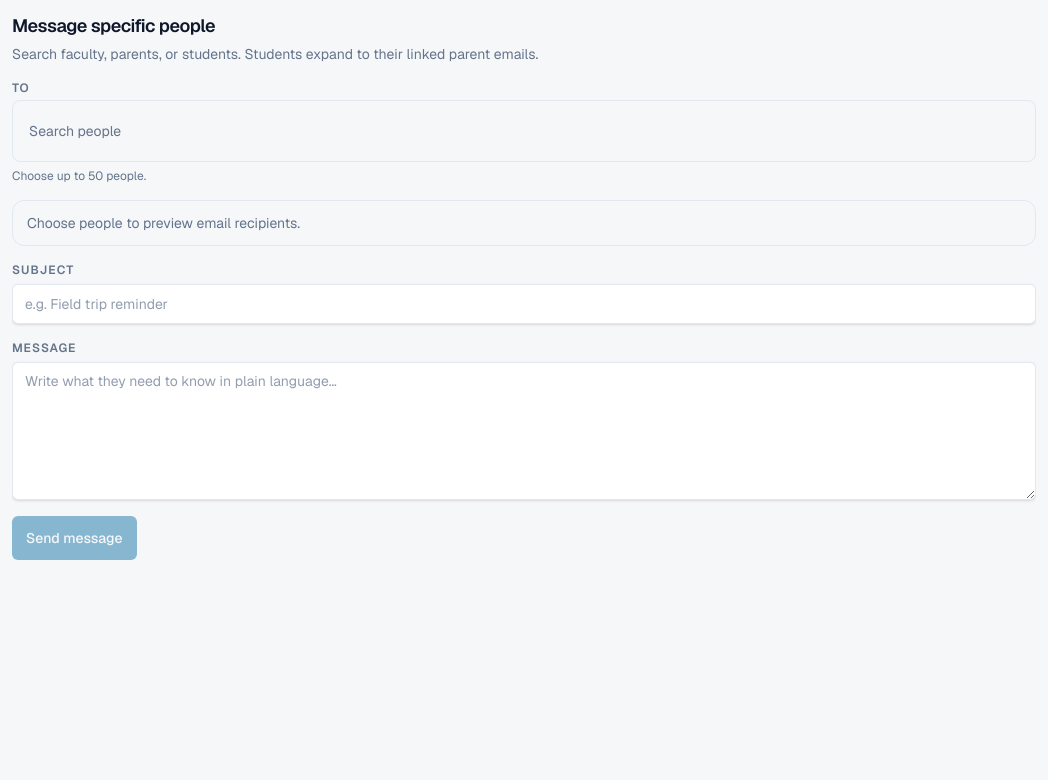
Scenario: PeopleMessageForm › previews selected references and blocks send until server resolution is ready
Type "Av" into the dropdown labelled "To".
click(524, 131); type("Av")  # box 21,109 -> 1027,153
Wait 250 ms
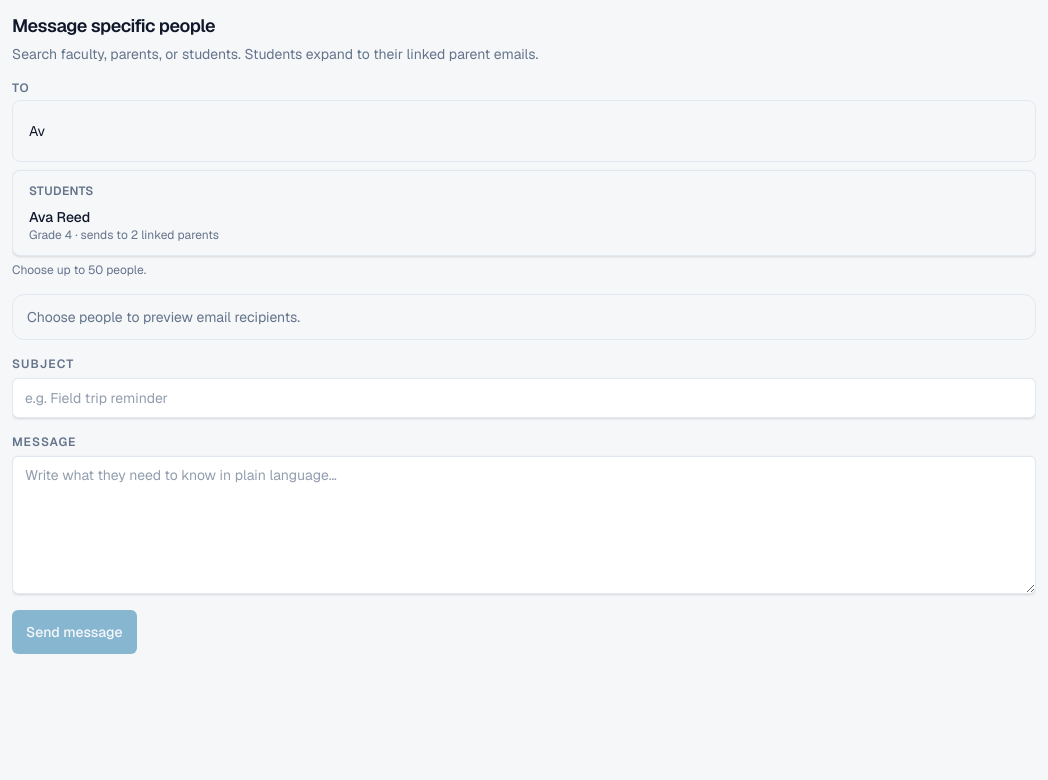
Press Arrowdown Enter
Wait 150 ms
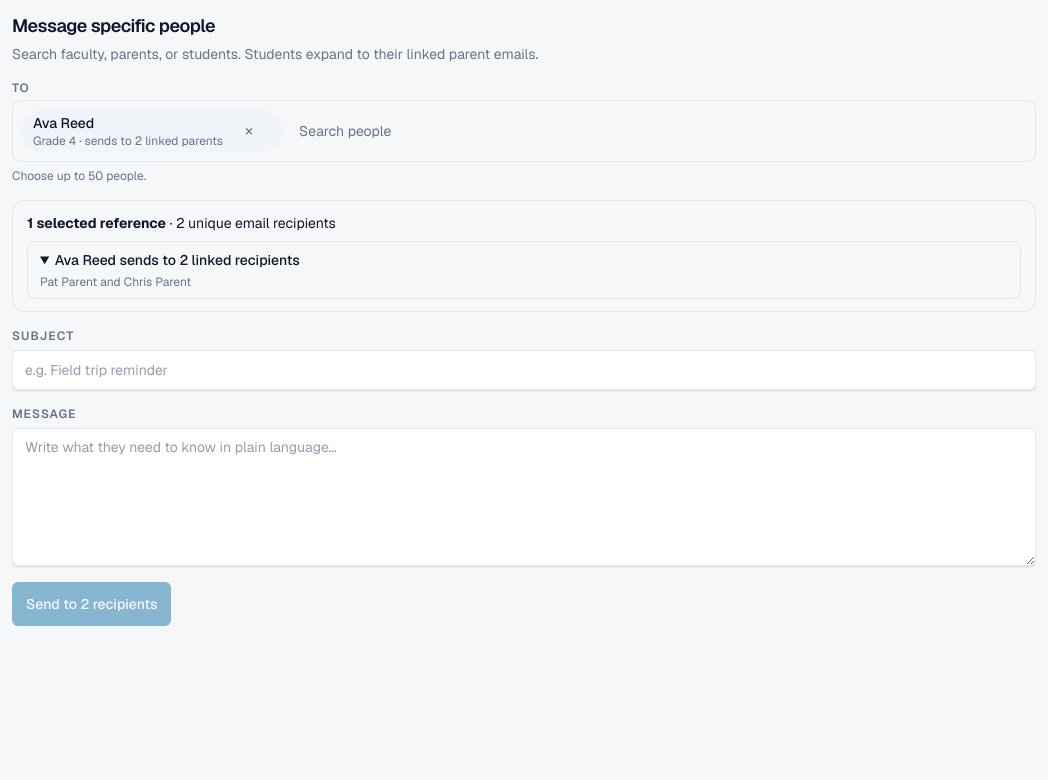
Expected: the button named "Send message" is disabled, 12,582 -> 172,626
Result: the text "2 unique email recipients" is shown at 176,214 -> 336,232
Result: the text "Pat Parent and Chris Parent" is shown at 40,274 -> 191,290
Type "Field trip reminder" into the field labelled "Subject".
click(524, 370); type("Field trip reminder")  # box 12,350 -> 1036,390
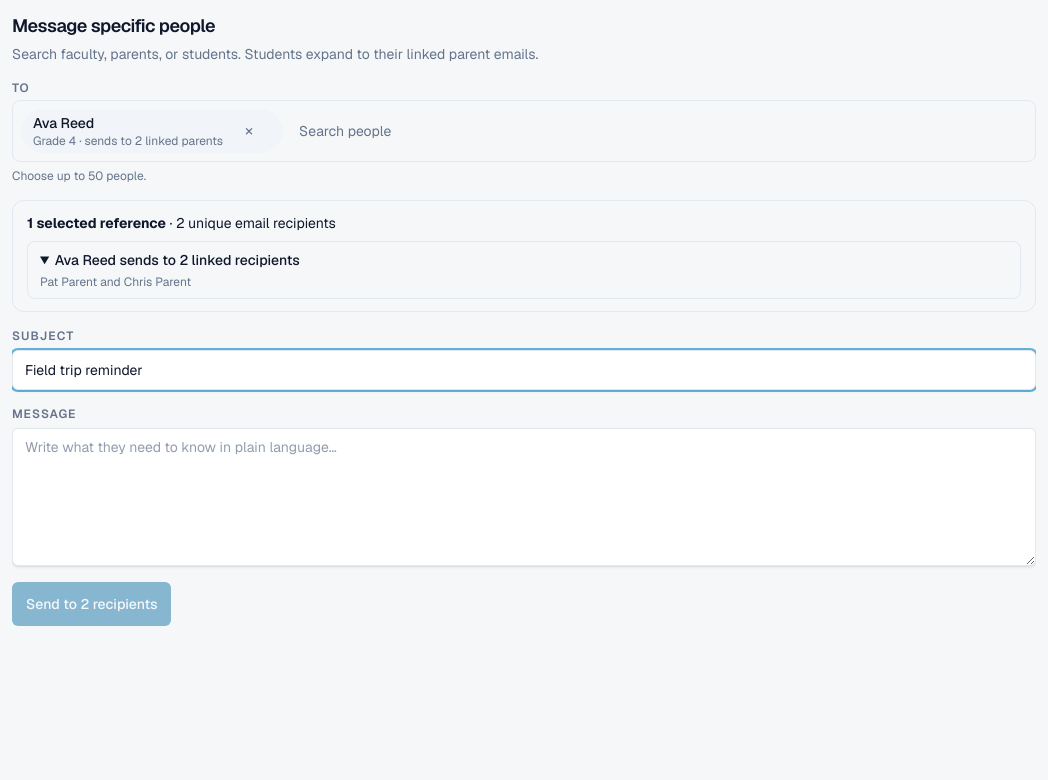
Type "Please return the form Friday." into the text box labelled "Message".
click(524, 497); type("Please return the form Friday.")  # box 12,428 -> 1036,566
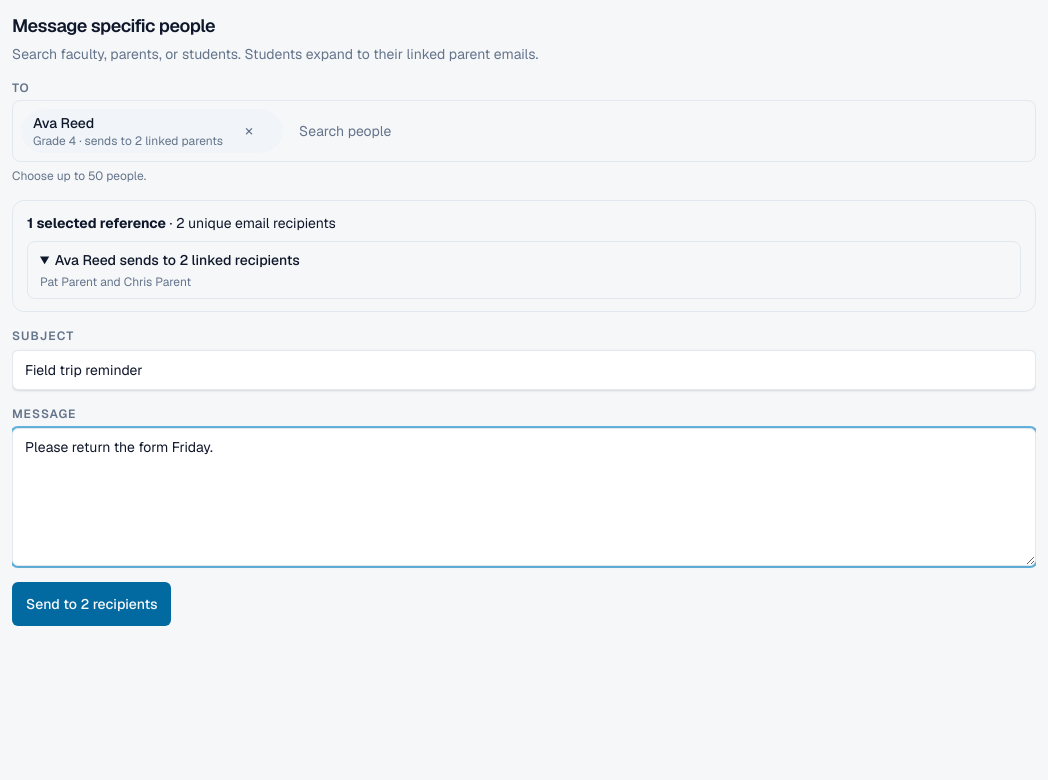
Result: the button "Send to 2 recipients" is enabled at 12,582 -> 172,626
